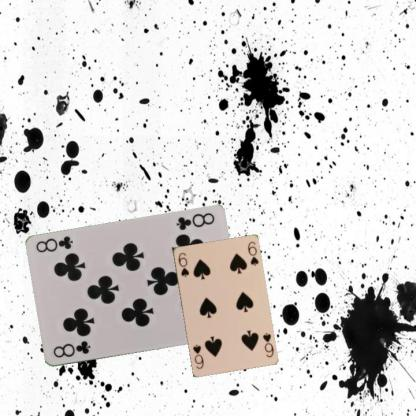6s: (176, 250, 190, 278), (260, 330, 274, 358)
8c: (172, 210, 216, 233), (50, 338, 92, 360)
